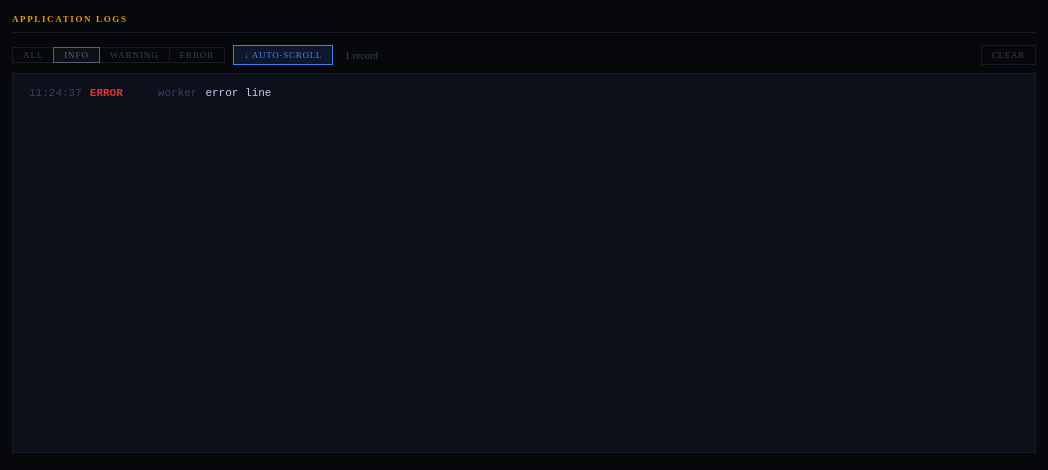
it: LogViewer — level emphasis › leaves an unranked level unemphasised rather than defaulting it bold
Check: the text "error line" is shown, box [205,84,271,103]
Click the button "ALL". click: (33,55)
box: [12,47,54,63]
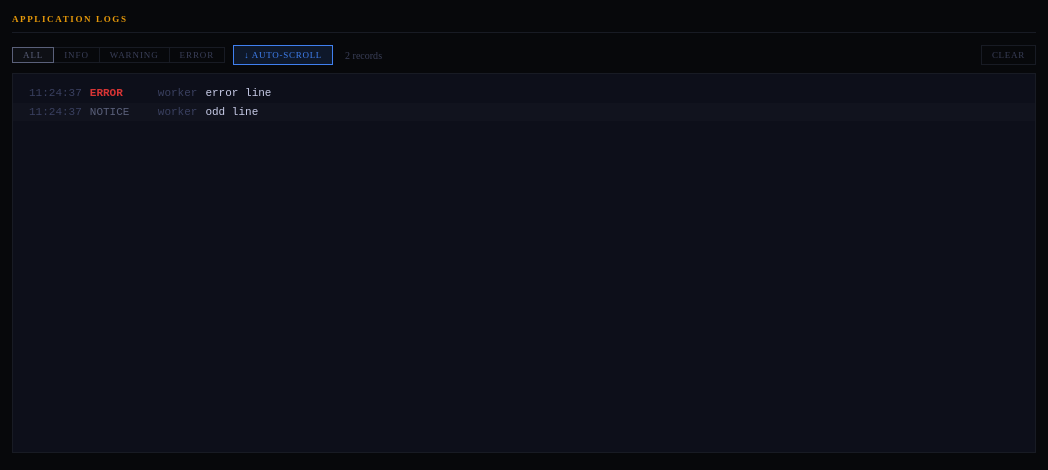
Check: the text "odd line" is shown, box [205,103,258,121]
